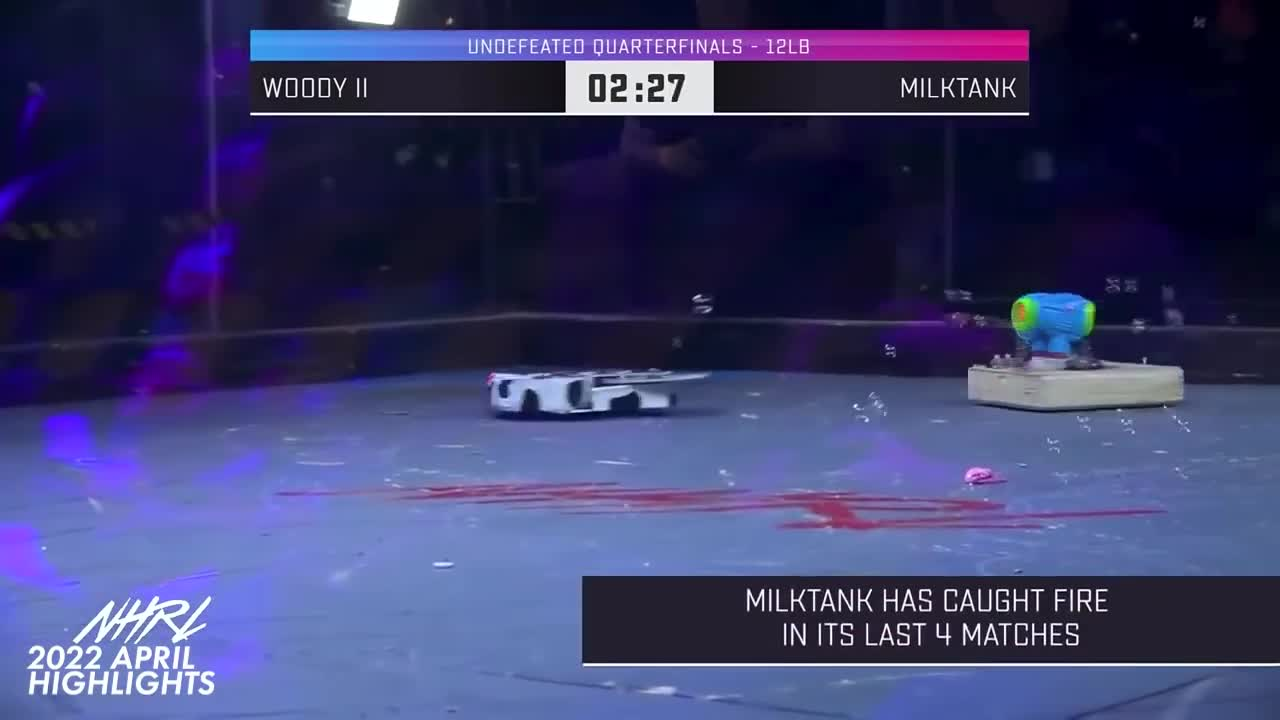combatbot: (966, 292, 1183, 414), (486, 370, 707, 419)
debris: (961, 464, 1007, 485)
